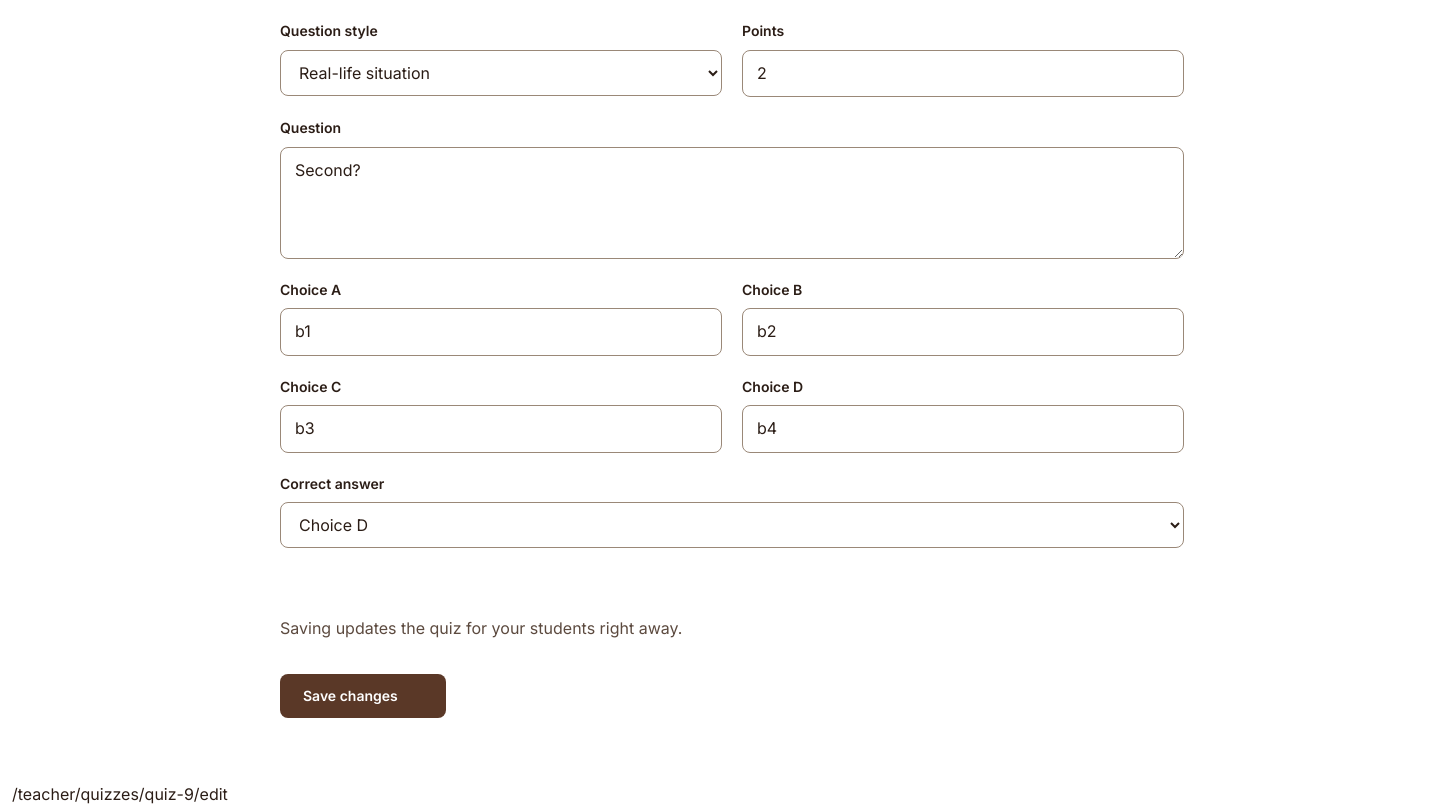
Test: QuizManager edit mode › shows the server message when saving fails
The image size is (1452, 807).
(page scrolled)
What coordinates should you click on to do the following:
click the button "Save changes"
I would click on:
 (363, 696)
Its box is [280, 674, 446, 718].
(page scrolled)
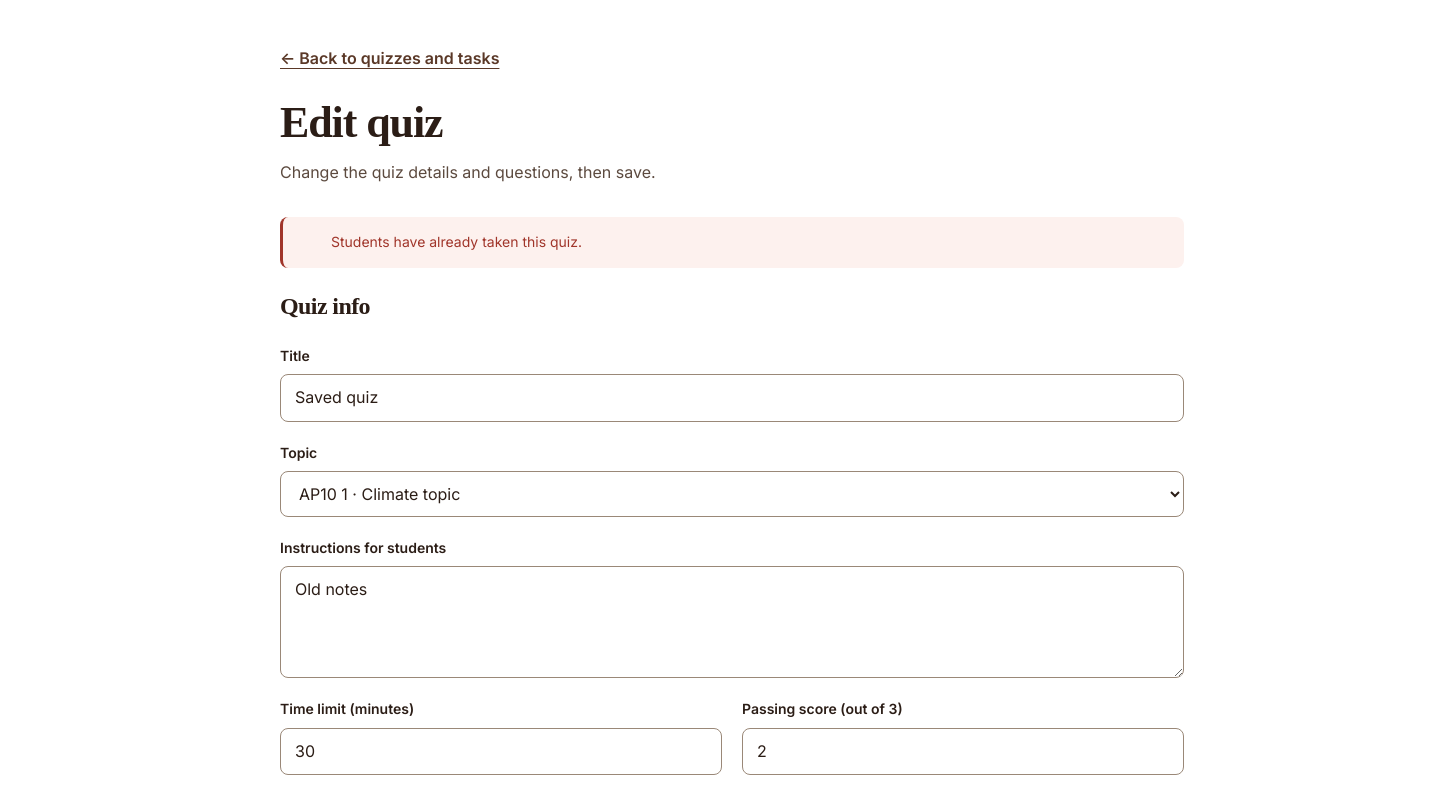
Expected: the message reads "Students have already taken this quiz.", [331, 233, 582, 250]
